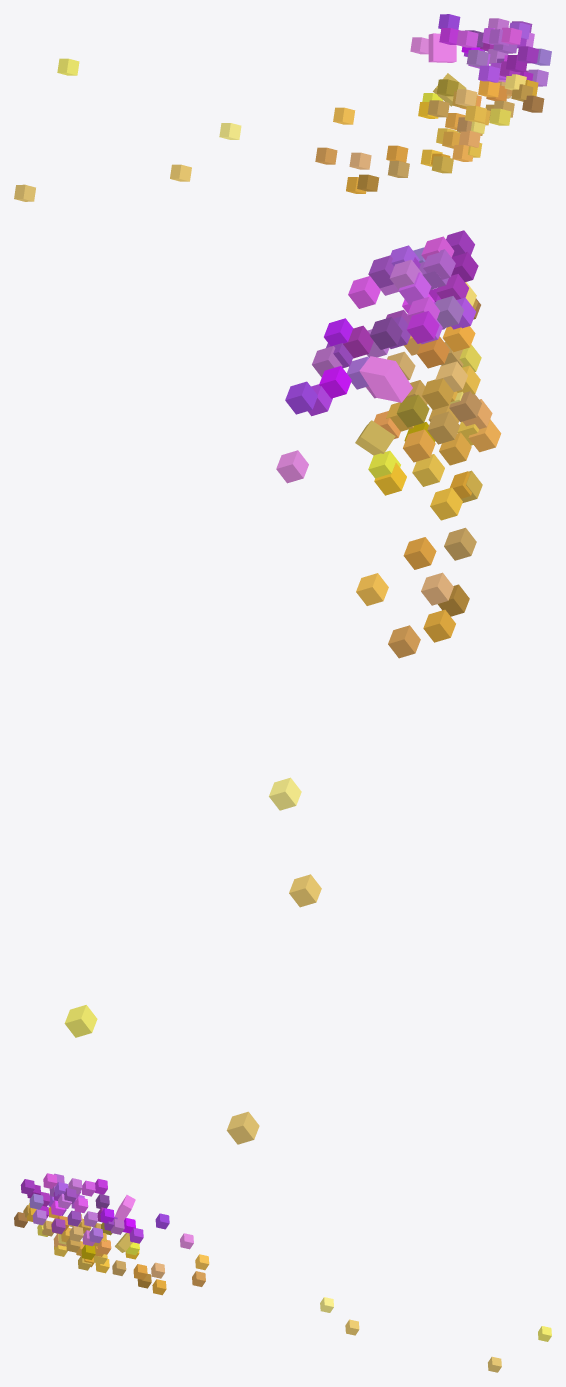
File: Ice_cream.gltf
3 renders of one model, top to bottom at view 1: azimuth 30°, elevation 25°; view 2: azimuth 150°, elevation 25°; view 3: azimuth 270°, elevation 25°, orthographic. The views are drawn at different scales.
Parts seen in each view (by area): view 1: Box_41, Box_16_1, Box_17_1, Box_21, Box_3_1, Box_22, Box_35, Box_12, Box_5_1, Box_14_1, Box_56, Box_47 (+22 smaller); view 2: Box_41; view 3: Box_41.
Part boxes in pixels (x1,y1,x2,y2): Box_41: (428,33,456,62); Box_16_1: (349,152,371,169); Box_17_1: (489,108,511,125); Box_21: (315,147,337,164); Box_3_1: (427,100,449,117); Box_22: (170,164,191,181); Box_35: (333,107,355,124); Box_12: (57,58,79,75); Box_5_1: (357,174,379,191); Box_14_1: (431,156,453,173); Box_56: (456,30,478,47); Box_47: (478,65,500,82); Box_41: (359,356,412,402); Box_41: (114,1195,135,1220).
Bounding box in the file's own units: 17.89 × 27.78 × 52.23.
